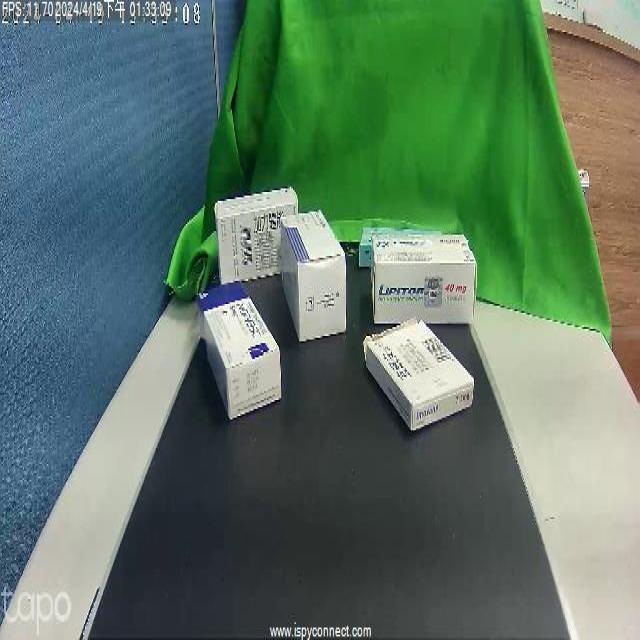box: (366, 228, 474, 326), (206, 281, 272, 410), (279, 222, 344, 344), (376, 321, 450, 421), (224, 192, 291, 275)
